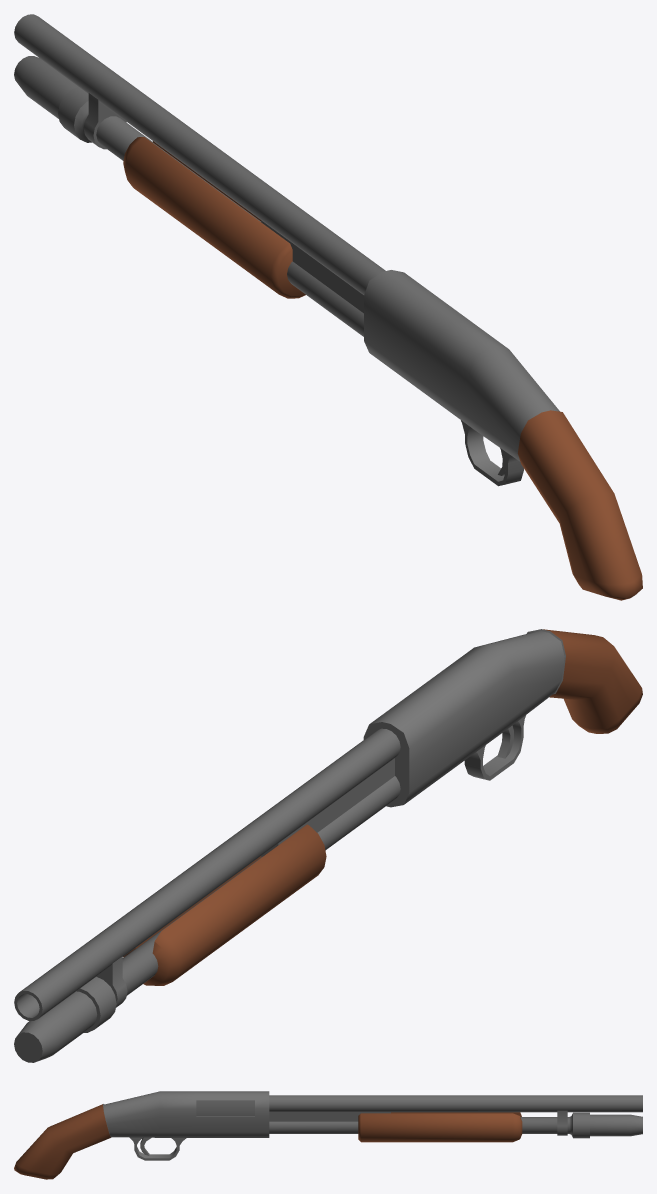
The model's file is Shotgun.fbx.
3 renders of one model, top to bottom at view 1: azimuth 30°, elevation 25°; view 2: azimuth 150°, elevation 25°; view 3: azimuth 270°, elevation 25°, orthographic. The views are drawn at different scales.
Visible parts, largest first — view 1: Cube, Cylinder, Cylinder.002, Cylinder.001, Cube.001; view 2: Cube, Cylinder, Cylinder.002, Cylinder.001, Cube.001; view 3: Cube, Cylinder, Cylinder.002, Cylinder.001, Cube.001.
Part boxes in pixels (x1,y1,x2,y2): Cube: (364, 270, 642, 600); Cylinder: (14, 14, 385, 294); Cylinder.002: (123, 137, 305, 298); Cylinder.001: (14, 56, 363, 336); Cube.001: (461, 420, 523, 486); Cube: (363, 629, 642, 807); Cylinder: (14, 728, 400, 1020); Cylinder.002: (123, 824, 326, 985); Cylinder.001: (14, 758, 400, 1062); Cube.001: (464, 715, 525, 780); Cube: (14, 1091, 269, 1179); Cylinder: (269, 1095, 642, 1135); Cylinder.002: (358, 1112, 522, 1142); Cylinder.001: (269, 1112, 642, 1138); Cube.001: (130, 1137, 186, 1160).
Size of the model in its own units: 19.67 by 54.79 by 367.
